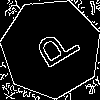P: (26, 23, 82, 76)
